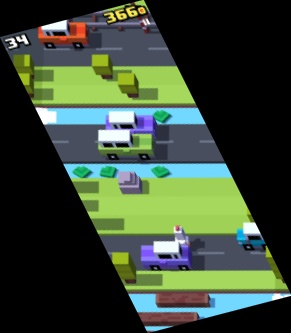car: (96, 129, 155, 160), (140, 241, 192, 272), (38, 19, 89, 50), (236, 221, 284, 251), (104, 112, 156, 138)
duck: (172, 225, 193, 251)
light off: (124, 1, 150, 34)
lilypad: (151, 164, 171, 180), (151, 109, 172, 124), (99, 162, 117, 179), (73, 164, 92, 179)
log: (134, 311, 201, 326), (155, 292, 211, 307)
rail: (49, 9, 160, 33)
rock: (116, 171, 140, 193)
tree: (265, 246, 291, 288), (244, 207, 274, 243), (110, 251, 137, 285), (10, 53, 35, 77), (91, 54, 113, 81), (9, 74, 34, 97), (116, 73, 138, 99)
water: (127, 292, 291, 333), (33, 107, 211, 125), (60, 163, 233, 181)
